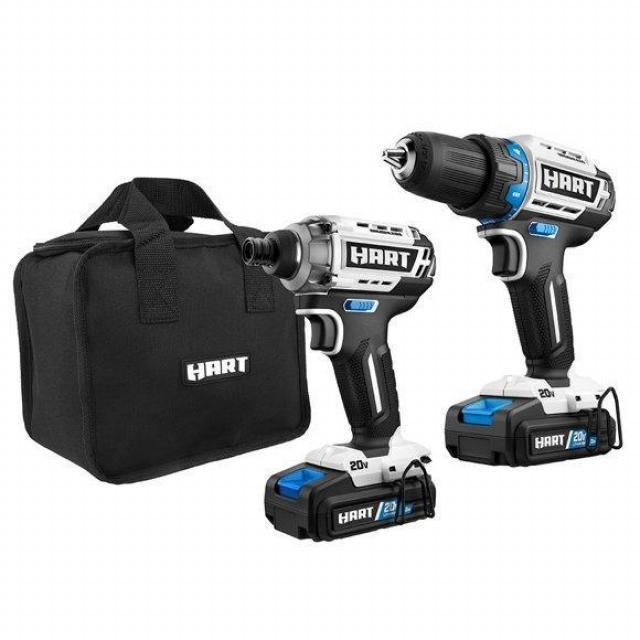drill: (380, 130, 625, 468), (241, 214, 439, 544)
